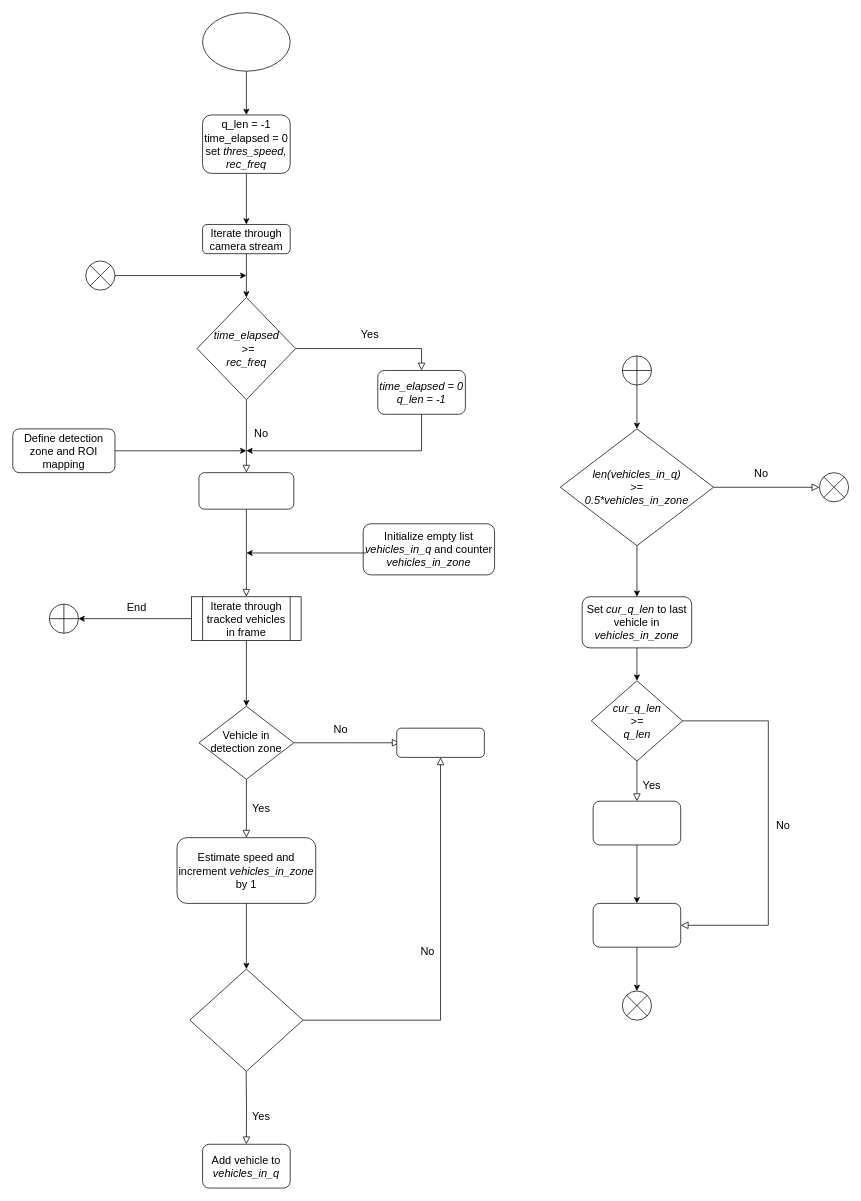
This 861x1201 diagram has some shape labels left out. The shapes that lost their labels are listed below. From the top down, each one's centre as x and y in pixels, then its label:
At point 246,41: "Start".
At point 246,490: "Object detection and object tracking".
At point 440,742: "Go to next vehicle".
At point 636,822: "q_len = cur_q_len".
At point 636,925: "Increment time_elapsed by 1".
At point 246,1019: "Vehicle speed <= thres_speed".
